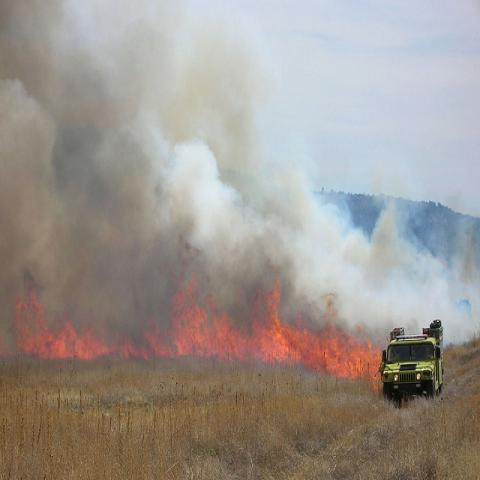truck: (382, 331, 444, 400)
